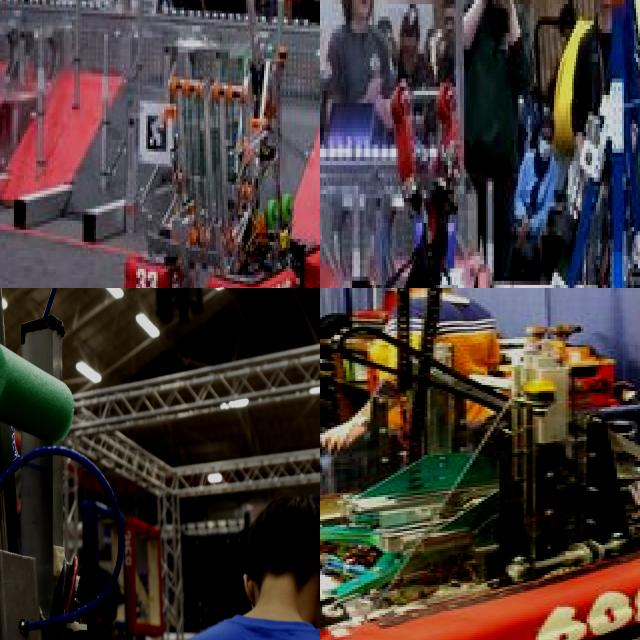FRC-Robots: (320, 288, 640, 640), (108, 30, 320, 288), (0, 288, 153, 640), (320, 65, 524, 288), (518, 0, 640, 288)
